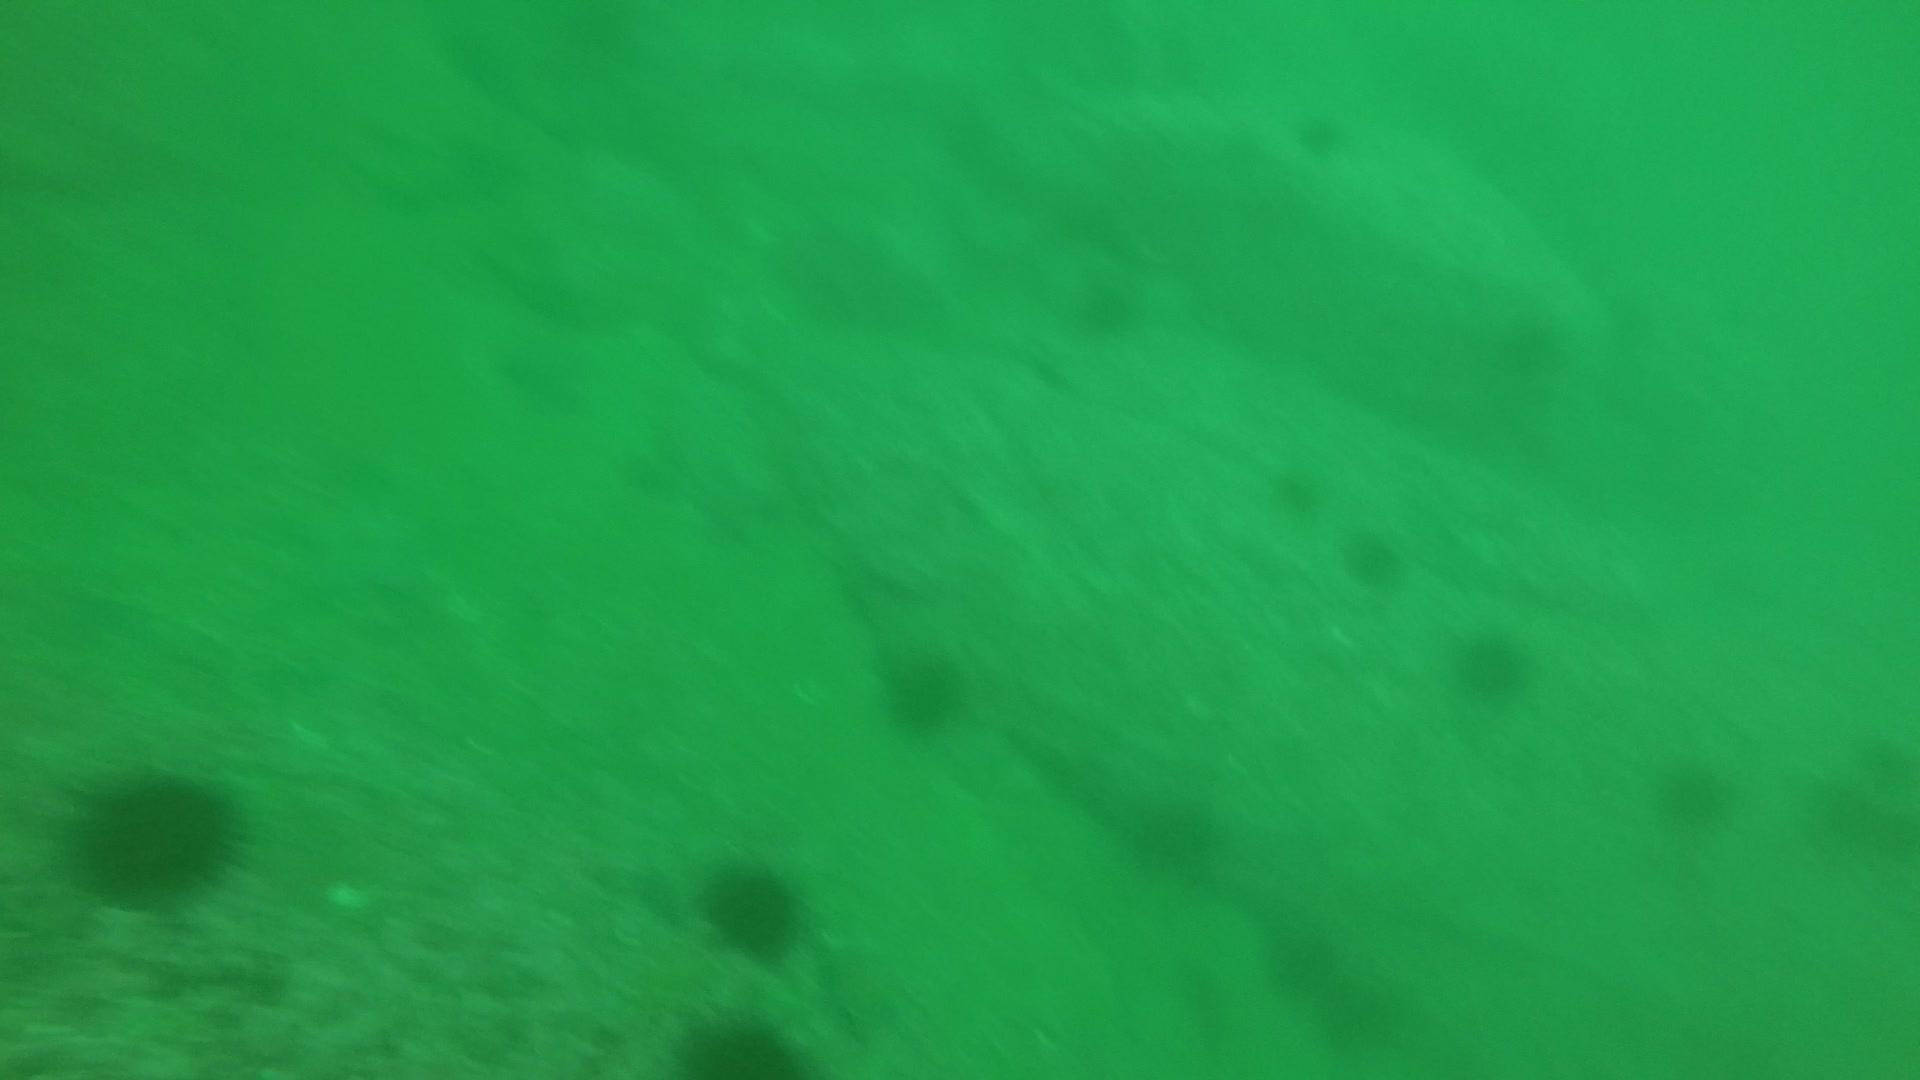echinus: (61, 760, 248, 909), (698, 855, 810, 963), (1120, 790, 1225, 881), (876, 640, 971, 738), (671, 1010, 810, 1077), (1447, 621, 1538, 708), (1647, 749, 1737, 835), (1487, 302, 1572, 380), (1068, 268, 1145, 342), (1338, 522, 1408, 589), (1265, 456, 1328, 520), (1290, 104, 1352, 160)
